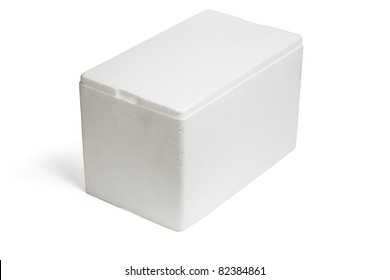Foam Box: (76, 7, 307, 234)
